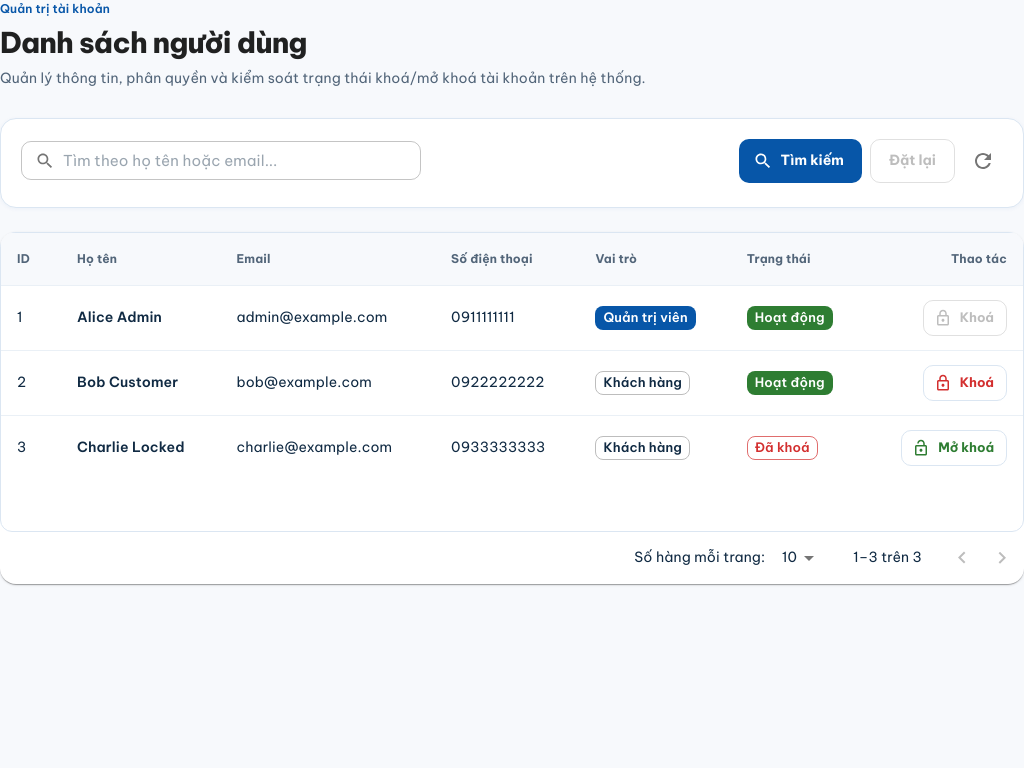
Test case: AdminUsersPage › locks customer account after confirmation in dialog
Expected: the text "Bob Customer" is shown, [77, 374, 178, 392]
// Click lock on Bob Customer
Click the button "Khoá" in the row of "Bob Customer": (965, 383) [923, 365, 1007, 401]
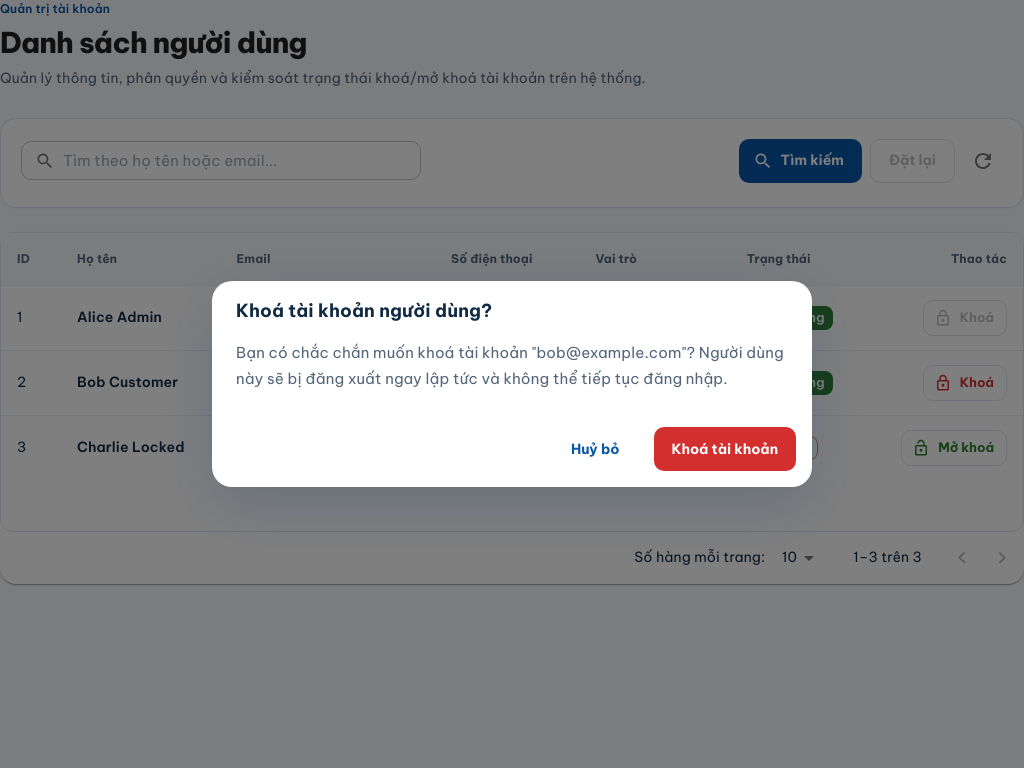
Expected: the dialog is shown, [212, 281, 812, 487]
Expected: the heading "Khoá tài khoản người dùng?" is shown, [236, 299, 492, 322]
Expected: the text "Bạn có chắc chắn muốn khoá tài khoản \"bob@example.com\"" is shown, [236, 343, 784, 388]
// Confirm lock
Click the button "Khoá tài khoản": (725, 449) [654, 427, 796, 471]
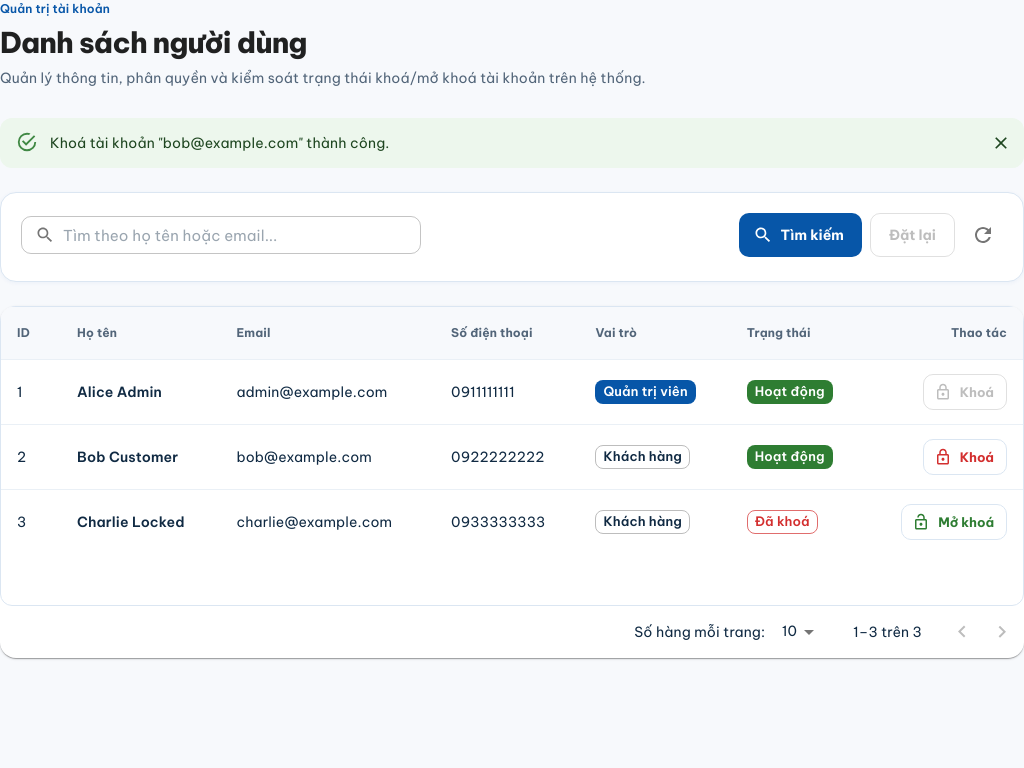
Expected: the text "Khoá tài khoản \"bob@example.com\" thành công." is shown, [50, 134, 390, 152]
